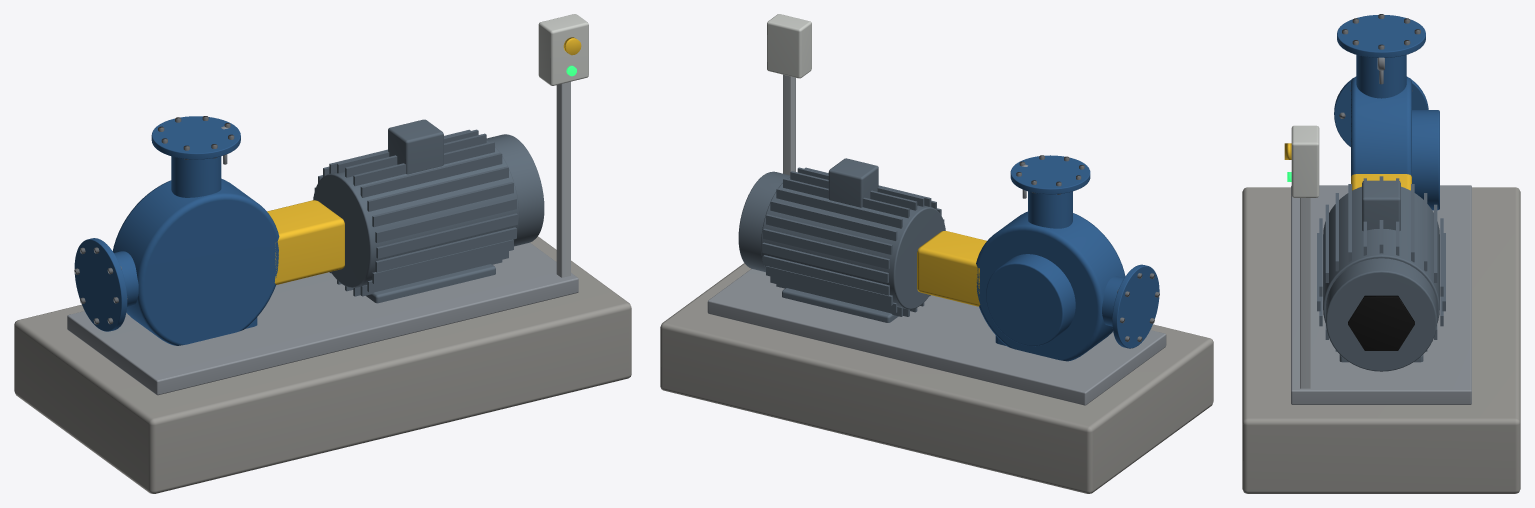
File: pump.61ff11cb.glb
3 renders of one model, left to right at view 1: azimuth 30°, elevation 25°; view 2: azimuth 150°, elevation 25°; view 3: azimuth 270°, elevation 25°, orthographic. The views are drawn at different scales.
Visible parts, largest first — view 1: base, motor, volute, nozzles, isolator, guard; view 2: base, motor, volute, nozzles, guard, isolator; view 3: base, motor, volute, nozzles, isolator, motorFan, guard.
Boxes of the visible parts, bbox=[...] form: base: bbox=[14, 236, 631, 493]; motor: bbox=[313, 119, 544, 303]; volute: bbox=[113, 178, 279, 345]; nozzles: bbox=[74, 116, 240, 331]; isolator: bbox=[538, 14, 588, 277]; guard: bbox=[267, 200, 344, 284]; base: bbox=[660, 263, 1213, 493]; motor: bbox=[738, 158, 945, 322]; volute: bbox=[976, 211, 1125, 361]; nozzles: bbox=[1010, 155, 1159, 348]; guard: bbox=[917, 231, 986, 306]; isolator: bbox=[767, 14, 811, 175]; base: bbox=[1242, 185, 1520, 493]; motor: bbox=[1317, 176, 1445, 371]; volute: bbox=[1351, 77, 1439, 210]; nozzles: bbox=[1334, 14, 1428, 146]; isolator: bbox=[1284, 125, 1319, 388]; motorFan: bbox=[1348, 295, 1414, 350]; guard: bbox=[1351, 174, 1411, 190].
Bounding box in the file's own units: 2 × 1.37 × 1.
